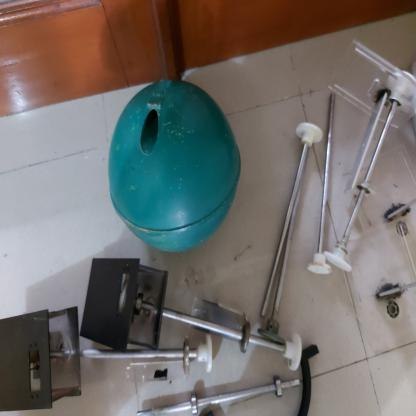green_buoy: (106, 76, 247, 258)
